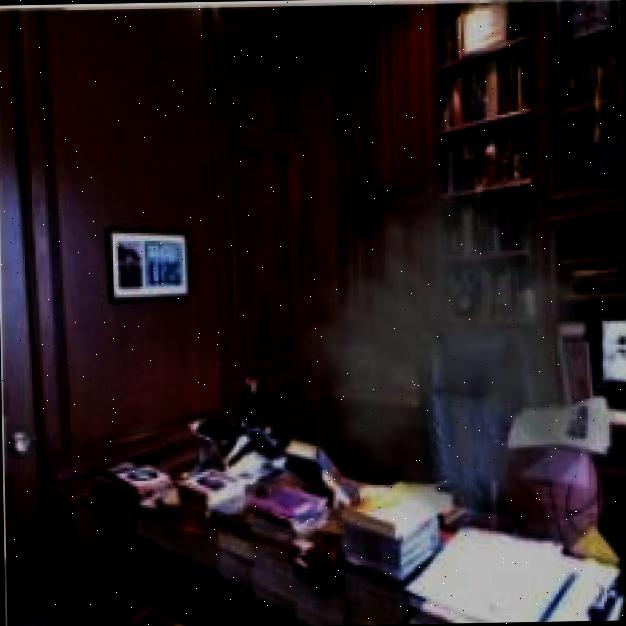smoke: (251, 155, 618, 554)
